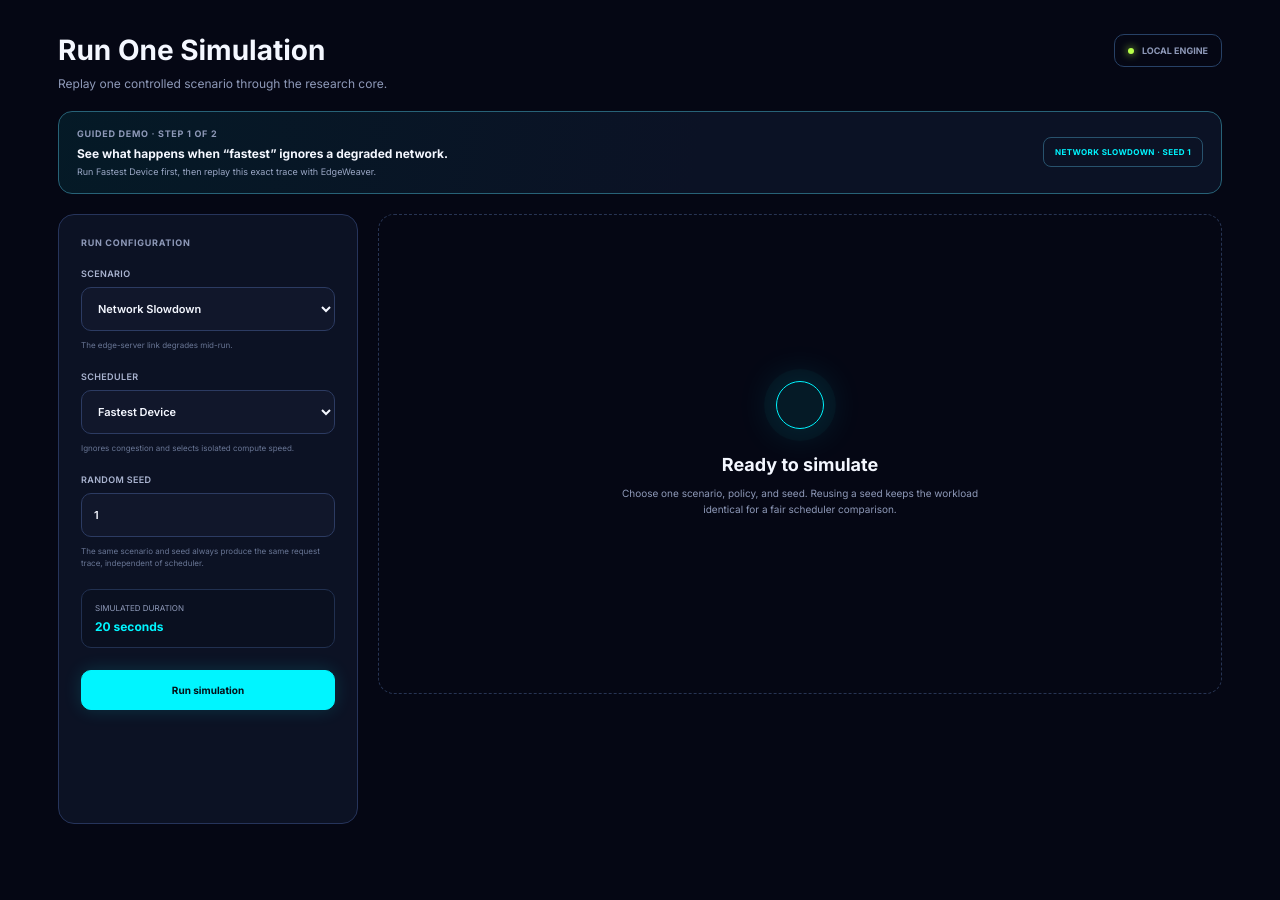
Test case: RunSimulation › runs the guided preset and exposes same-trace replay and event playback
Check: the text "GUIDED DEMO · STEP 1 OF 2" is shown, box [77,128,217,139]
Step 1. Click the button "Run simulation" → (208, 690), box [81,670,335,710]
(page scrolled)
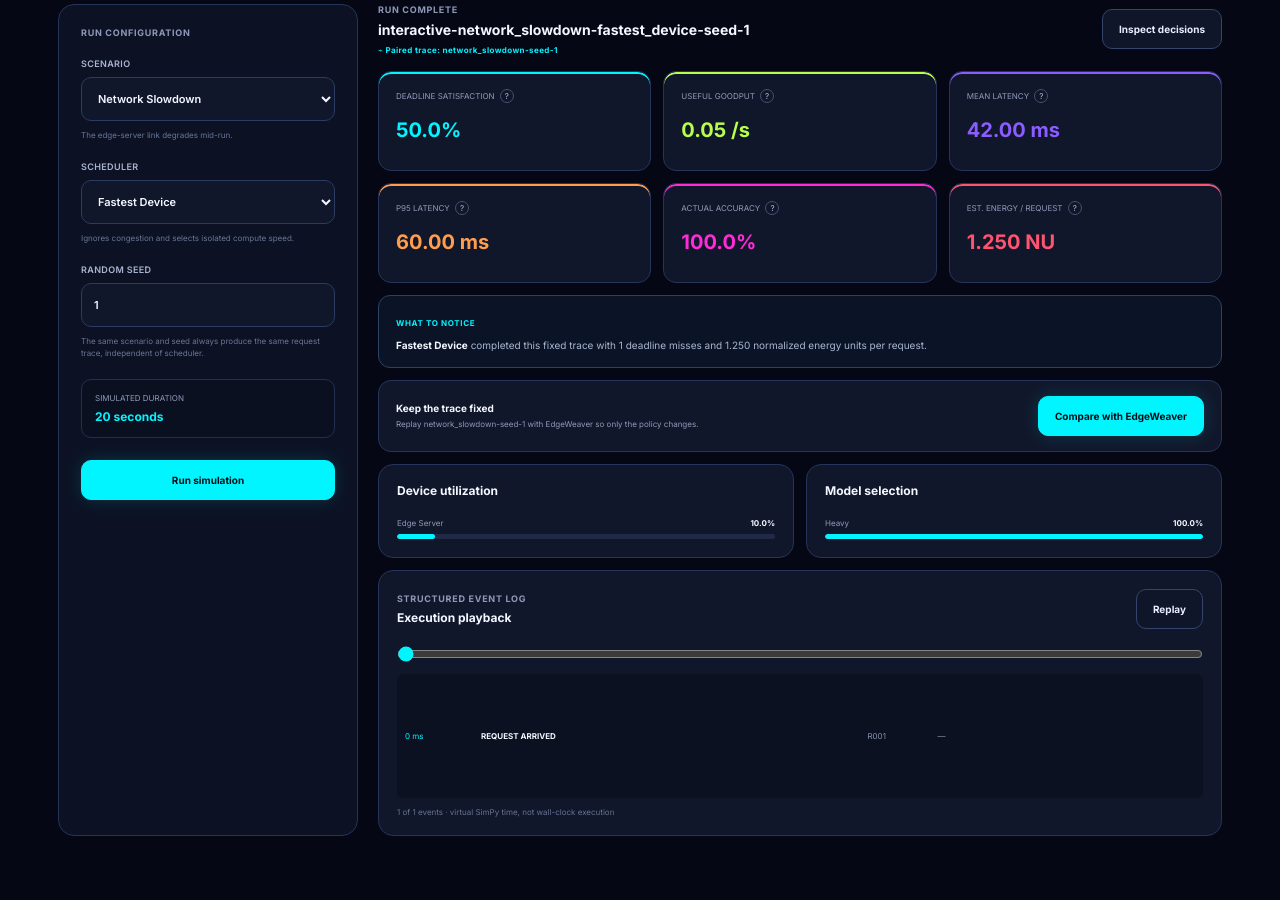
Check: the heading "interactive-network_slowdown-fastest_device-seed-1" is shown, box [378,21,750,38]
Check: the text "⌁ Paired trace: network_slowdown-seed-1" is shown, box [378,45,558,55]
Check: the button "Compare with EdgeWeaver" is shown, box [1038,396,1204,436]
